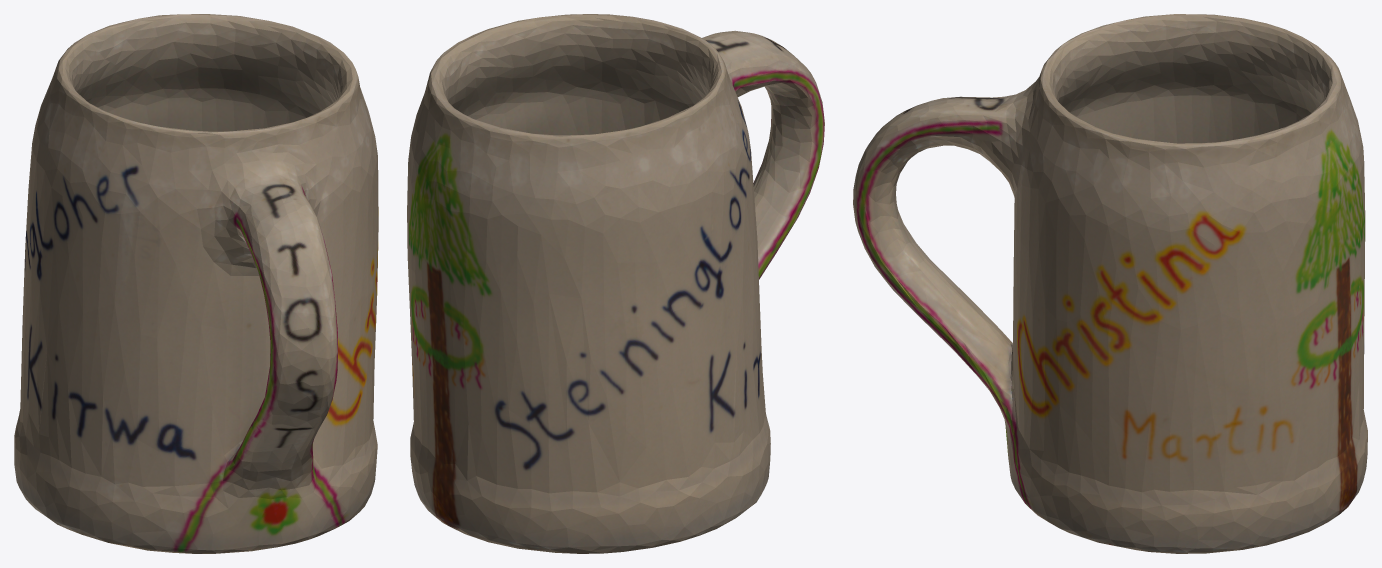
Rendered from F1D4CD5E-BD3F-2048-8B89-DDA65F1E8B27_2k.glb.
3 views of the same model, side by side, from view 1: azimuth 30°, elevation 25°; view 2: azimuth 150°, elevation 25°; view 3: azimuth 270°, elevation 25° (orthographic).
Visible parts, largest first — view 1: Krug Steiningloh_4k_2k; view 2: Krug Steiningloh_4k_2k; view 3: Krug Steiningloh_4k_2k.
Part boxes in pixels (bbox=[...]): Krug Steiningloh_4k_2k: bbox=[14, 14, 378, 553]; Krug Steiningloh_4k_2k: bbox=[407, 14, 824, 553]; Krug Steiningloh_4k_2k: bbox=[853, 14, 1367, 553].
Size of the model in its own units: 0.1023 by 0.1284 by 0.145.
1 material, 1 textured.
